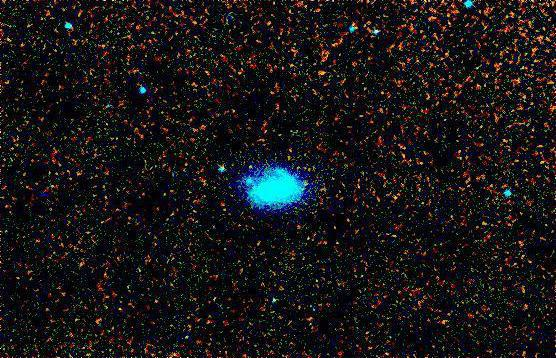star: (289, 166, 319, 196)
